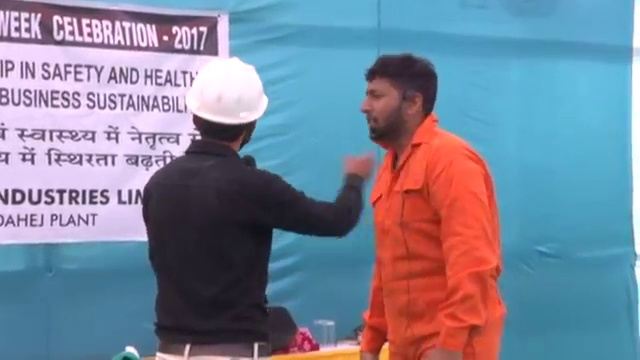helmet: (185, 57, 268, 125)
helmet_off: (360, 53, 438, 148)
helmet_on: (184, 57, 267, 155)
person: (140, 55, 374, 360), (359, 55, 507, 359)
